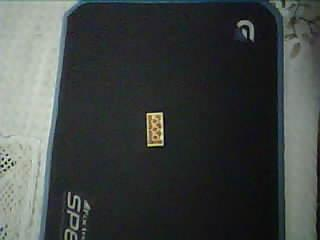lego: (145, 111, 165, 148)
